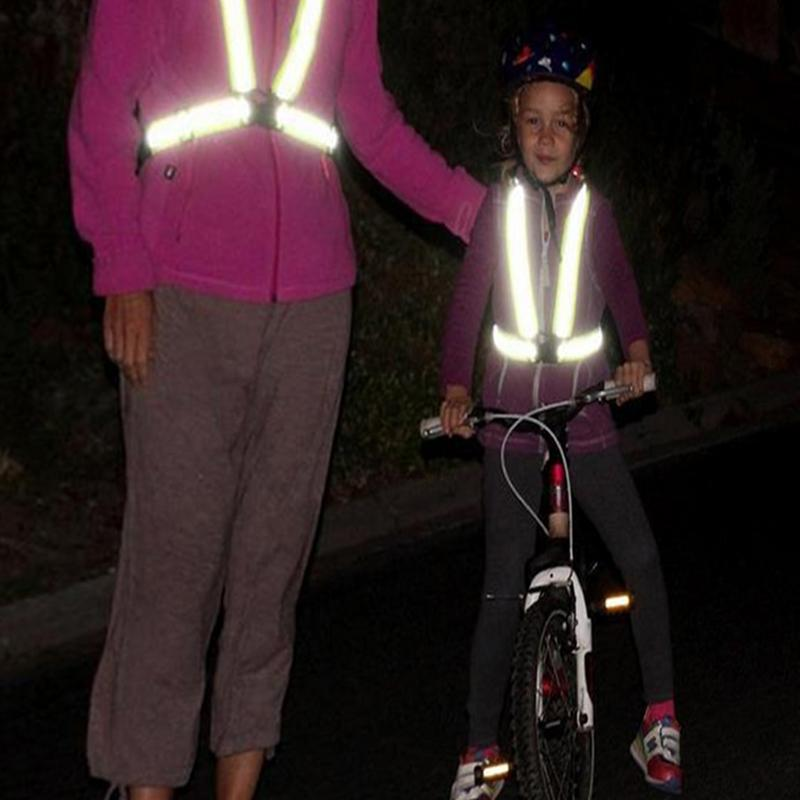Vest: (473, 172, 614, 370)
